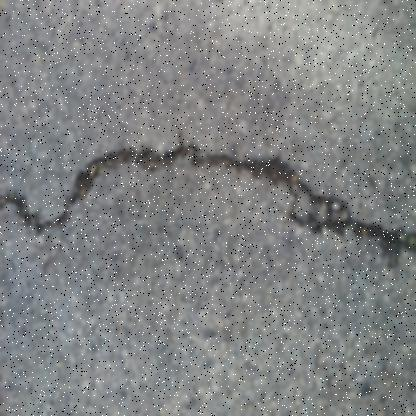Cracks: (1, 131, 415, 265)
